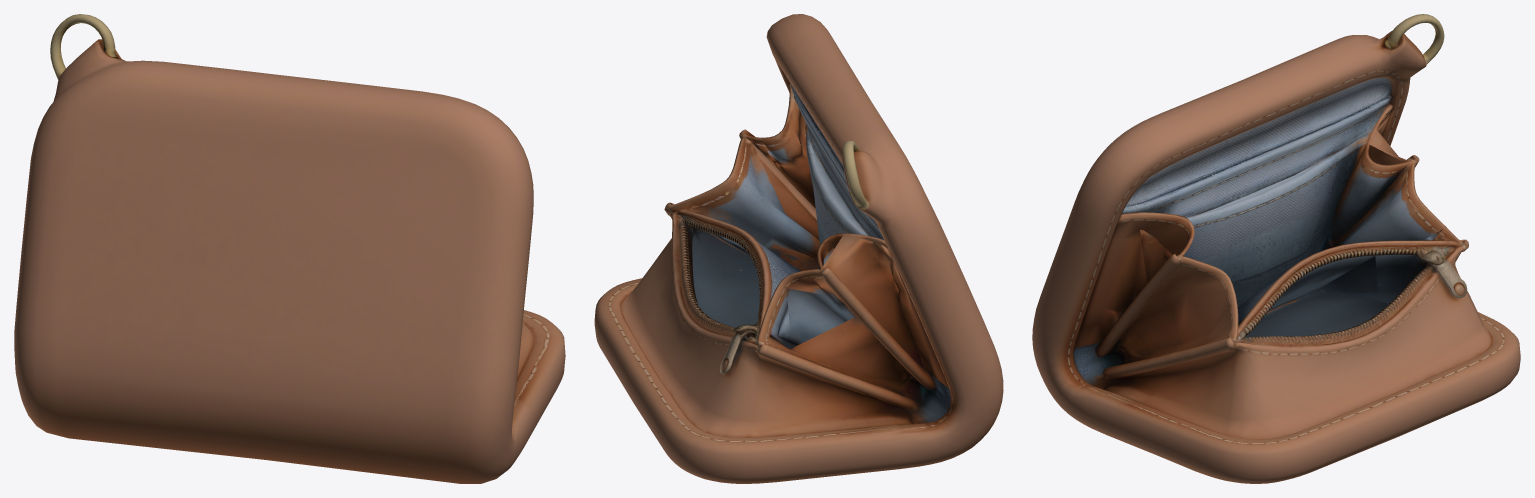
The model's file is wall-broke-empty-wallet.glb.
3 views of the same model, side by side, from view 1: azimuth 30°, elevation 25°; view 2: azimuth 150°, elevation 25°; view 3: azimuth 270°, elevation 25° (orthographic). The views are drawn at different scales.
Visible parts, largest first — view 1: tripo_node_3bc0e6cd-6e1f-4a30-8310-276cb8417d9a; view 2: tripo_node_3bc0e6cd-6e1f-4a30-8310-276cb8417d9a; view 3: tripo_node_3bc0e6cd-6e1f-4a30-8310-276cb8417d9a.
Part boxes in pixels (left/top/right/bottom): tripo_node_3bc0e6cd-6e1f-4a30-8310-276cb8417d9a: left=14, top=14, right=565, bottom=483; tripo_node_3bc0e6cd-6e1f-4a30-8310-276cb8417d9a: left=594, top=14, right=1003, bottom=483; tripo_node_3bc0e6cd-6e1f-4a30-8310-276cb8417d9a: left=1032, top=14, right=1520, bottom=483.
Bounding box in the file's own units: 1.1 × 0.7993 × 1.1.
Materials: 1 (1 with a texture image).
